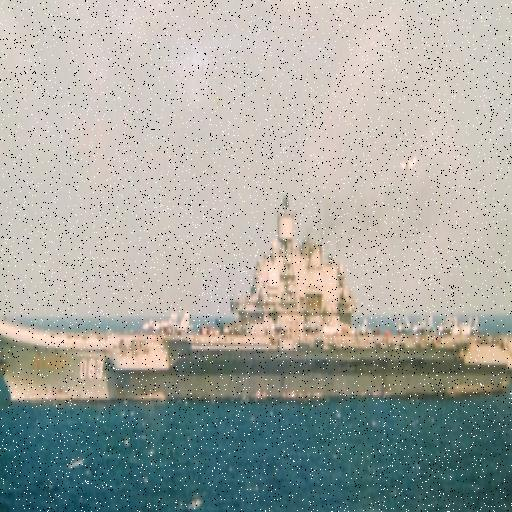Portanaves: (1, 184, 512, 415)
